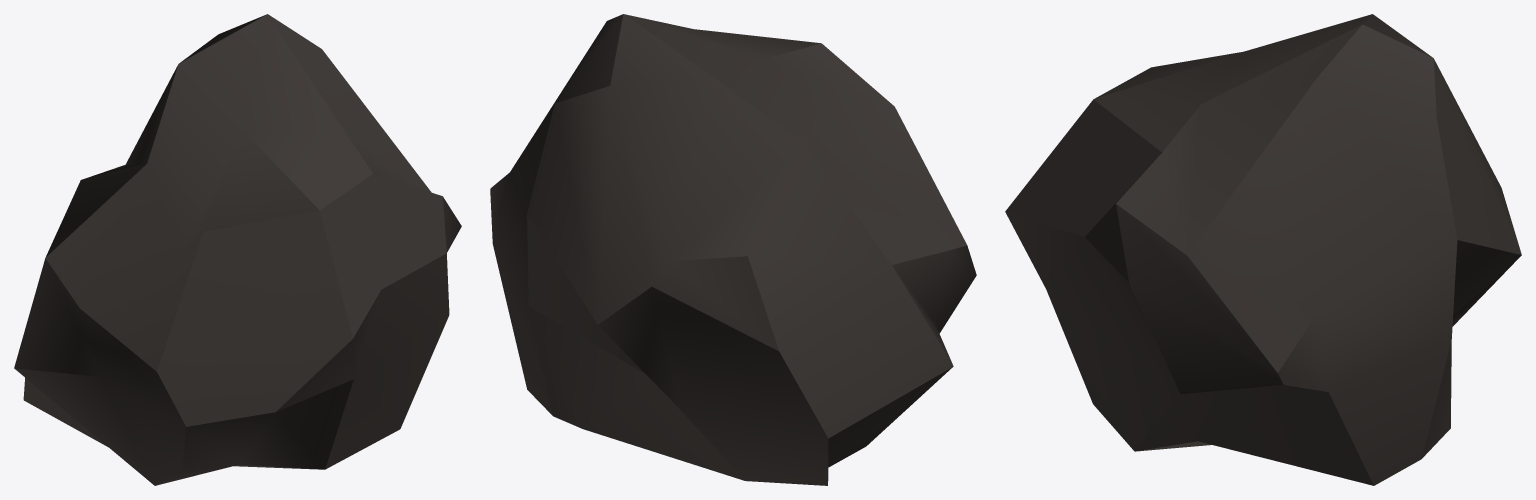
The model's file is Rock.fbx.
The picture shows the model from 3 angles, left to right: view 1: azimuth 30°, elevation 25°; view 2: azimuth 150°, elevation 25°; view 3: azimuth 270°, elevation 25°; orthographic projection. The views are drawn at different scales.
Visible parts, largest first — view 1: Rock; view 2: Rock; view 3: Rock.
Boxes of the visible parts, left/top/right/bottom form: Rock: left=14, top=14, right=461, bottom=485; Rock: left=490, top=14, right=976, bottom=485; Rock: left=1005, top=14, right=1521, bottom=485.
Bounding box in the file's own units: 455 × 395 × 404.
